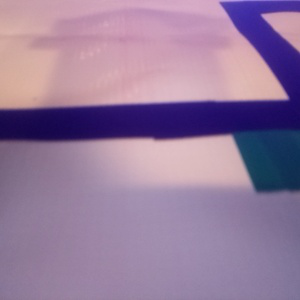bottom_left: (232, 102, 300, 192)
